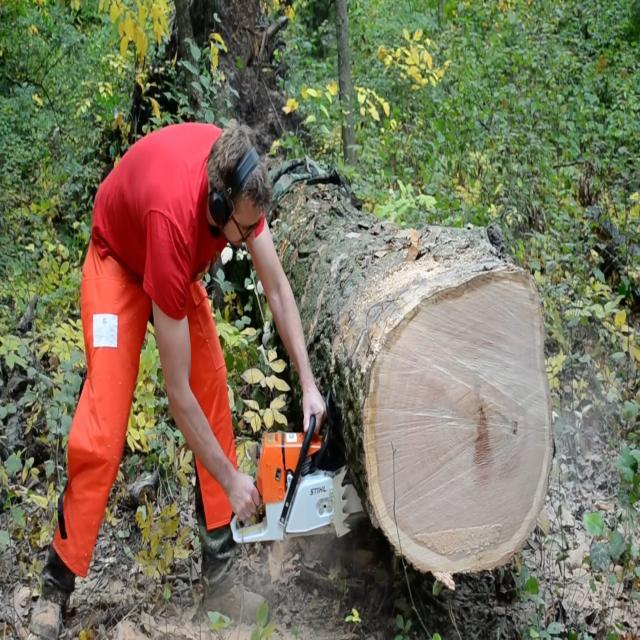Chainsaw: (220, 421, 377, 552)
